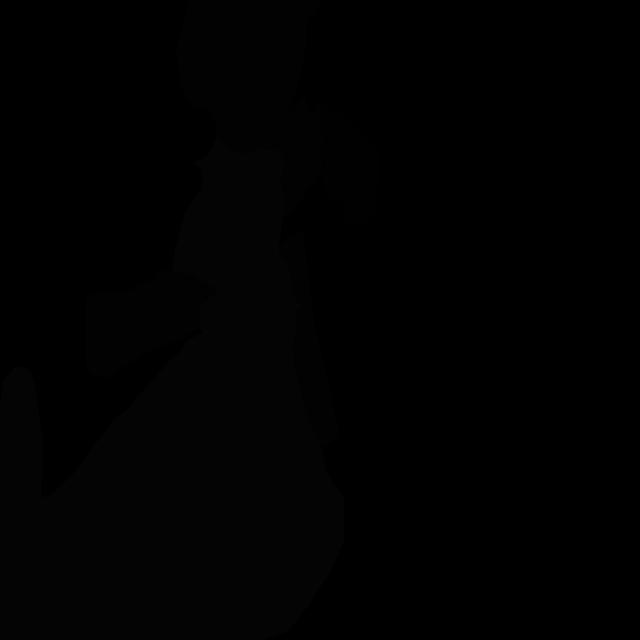cardboard: (176, 0, 321, 154), (85, 269, 218, 379), (278, 231, 340, 448), (262, 95, 324, 218)
rigid_plastic: (315, 100, 380, 226)
soft_plastic: (0, 135, 344, 640)
